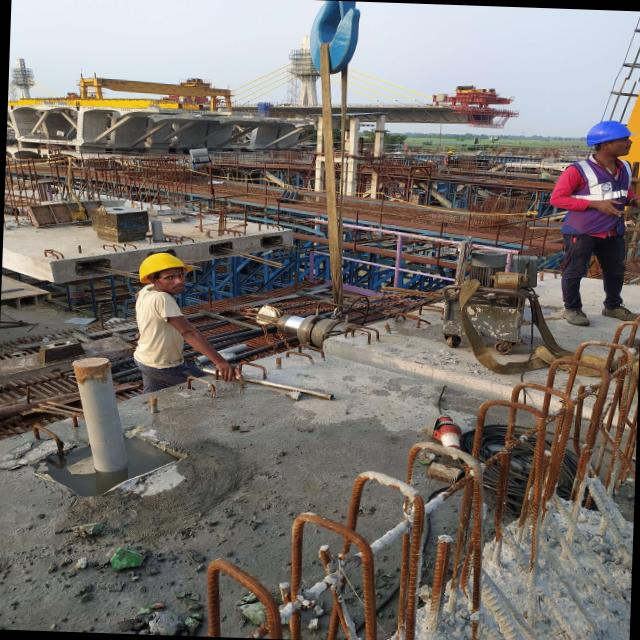cement: (0, 369, 426, 636), (476, 475, 633, 640), (2, 217, 293, 283), (324, 309, 519, 398), (534, 274, 621, 350), (415, 588, 474, 640), (622, 284, 640, 313), (548, 585, 557, 594)
